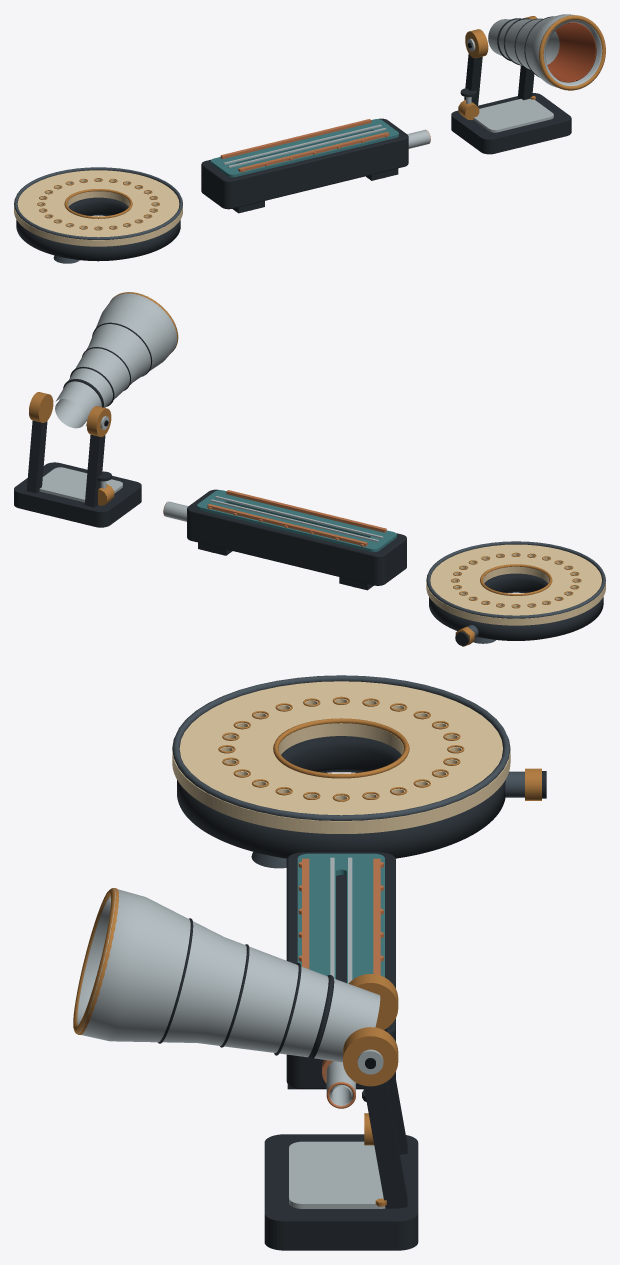
Rendered from burner-assembly-comparison.glb.
3 views of the same model, one above another, from view 1: azimuth 30°, elevation 25°; view 2: azimuth 150°, elevation 25°; view 3: azimuth 270°, elevation 25° (orthographic). The views are drawn at different scales.
Visible parts, largest first — view 1: Perforated annular deck — 24 open ports, Long plenum housing, Bell shell with open bore, Toroidal fuel plenum, Weighted swivel base, Slotted ceramic emitter deck — continuous open ribbon, Removable refractory muzzle liner, Base top inset, Outer deck bead, Muzzle crown, Left deck shoulder, Right deck shoulder (+6 smaller); view 2: Perforated annular deck — 24 open ports, Bell shell with open bore, Long plenum housing, Toroidal fuel plenum, Weighted swivel base, Slotted ceramic emitter deck — continuous open ribbon, Outer deck bead, Base top inset, Elevation yoke arm R, Elevation yoke arm L, Right deck shoulder, Left deck shoulder (+5 smaller); view 3: Perforated annular deck — 24 open ports, Bell shell with open bore, Toroidal fuel plenum, Weighted swivel base, Slotted ceramic emitter deck — continuous open ribbon, Base top inset, Long plenum housing, Outer deck bead, Elevation yoke arm R, Yoke pivot bearing R, Muzzle crown, Central opening bead (+5 smaller).
Boxes of the visible parts, box(x1,y1,x2,y2) form: Perforated annular deck — 24 open ports: box(14, 170, 182, 246); Long plenum housing: box(201, 118, 408, 209); Bell shell with open bore: box(488, 14, 602, 90); Toroidal fuel plenum: box(16, 197, 180, 261); Weighted swivel base: box(451, 93, 571, 154); Slotted ceramic emitter deck — continuous open ribbon: box(211, 119, 398, 177); Removable refractory muzzle liner: box(547, 22, 596, 82); Base top inset: box(473, 98, 553, 132); Outer deck bead: box(14, 167, 182, 239); Muzzle crown: box(539, 15, 605, 90); Left deck shoulder: box(220, 119, 371, 158); Right deck shoulder: box(238, 132, 389, 172); Perforated annular deck — 24 open ports: box(426, 544, 605, 625); Bell shell with open bore: box(55, 292, 178, 428); Long plenum housing: box(187, 489, 406, 585); Toroidal fuel plenum: box(429, 573, 603, 640); Weighted swivel base: box(14, 462, 141, 527); Slotted ceramic emitter deck — continuous open ribbon: box(197, 490, 396, 552); Outer deck bead: box(426, 541, 605, 618); Base top inset: box(39, 467, 122, 502); Elevation yoke arm R: box(26, 420, 47, 493); Elevation yoke arm L: box(84, 434, 105, 507); Right deck shoulder: box(226, 490, 386, 532); Left deck shoulder: box(207, 504, 367, 546); Perforated annular deck — 24 open ports: box(172, 681, 510, 833); Bell shell with open bore: box(77, 888, 380, 1062); Toroidal fuel plenum: box(177, 736, 505, 858); Weighted swivel base: box(264, 1134, 418, 1250); Slotted ceramic emitter deck — continuous open ribbon: box(297, 853, 384, 983); Base top inset: box(289, 1141, 385, 1208); Long plenum housing: box(286, 852, 395, 1089); Outer deck bead: box(172, 675, 510, 820); Elevation yoke arm R: box(364, 1081, 407, 1208); Yoke pivot bearing R: box(343, 1027, 398, 1086); Muzzle crown: box(73, 888, 119, 1034); Central opening bead: box(273, 718, 409, 778).
Size of the model in its own units: 3.99 by 1.14 by 1.54.
